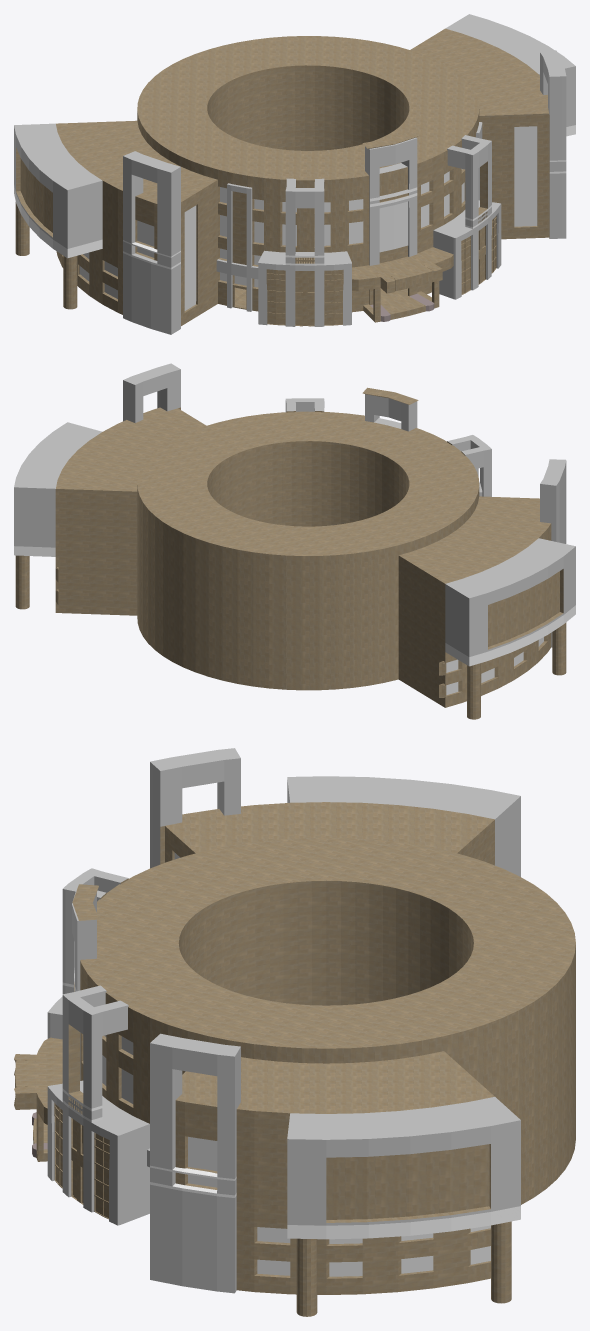
3 views of the same model, one above another, from view 1: azimuth 30°, elevation 25°; view 2: azimuth 150°, elevation 25°; view 3: azimuth 270°, elevation 25° (orthographic). The views are drawn at different scales.
Parts seen in each view (by area): view 1: red brick, Circle.002; view 2: red brick, Circle.002; view 3: red brick, Circle.002.
Part boxes in pixels (left/top/right/bottom): red brick: left=14, top=14, right=575, bottom=334; Circle.002: left=79, top=126, right=537, bottom=310; red brick: left=14, top=363, right=575, bottom=719; Circle.002: left=446, top=637, right=543, bottom=695; red brick: left=14, top=748, right=575, bottom=1316; Circle.002: left=102, top=853, right=490, bottom=1276.
Size of the model in its own units: 903 by 277 by 590.
